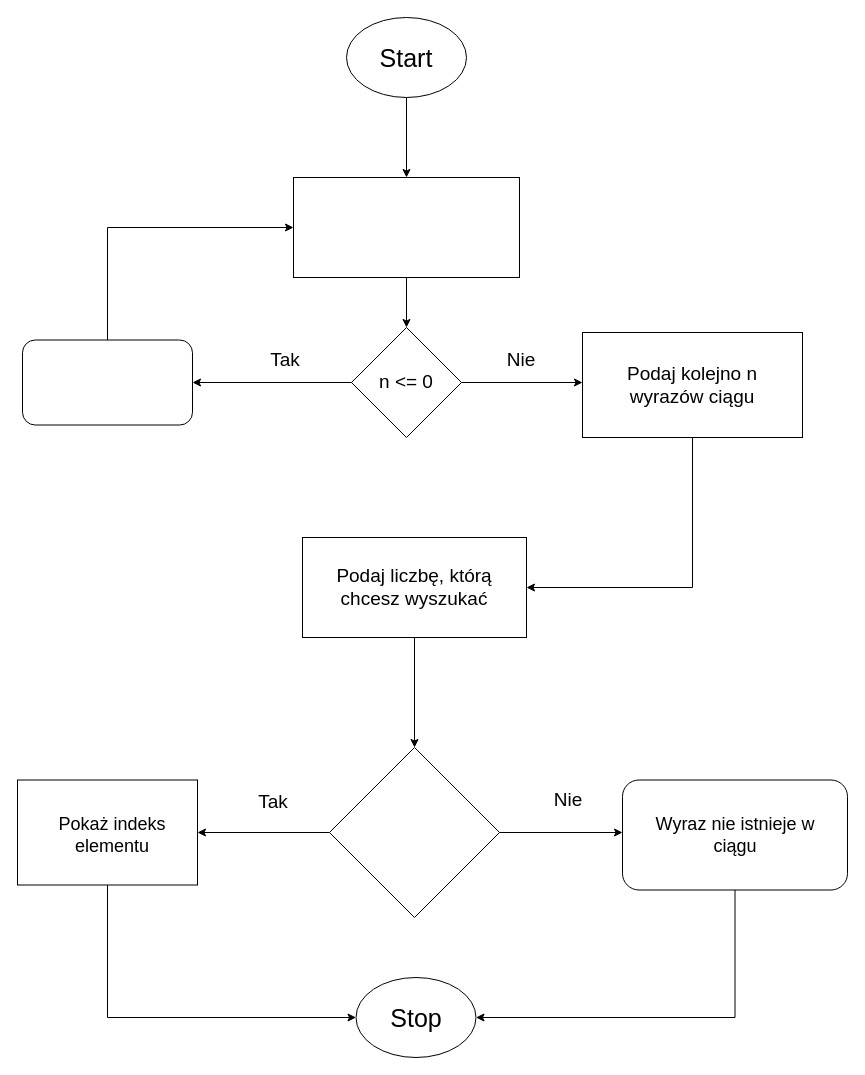
This 865x1075 diagram has some shape labels left out. Here are the shapes that lost their labels. From the top down, the centre of each, then its label:
At pixel 406 227: "Podaj liczbę wyrazów ciągu (n)".
At pixel 107 382: "n nie może być <= 0".
At pixel 414 832: "Wyraz istnieje w ciągu".
